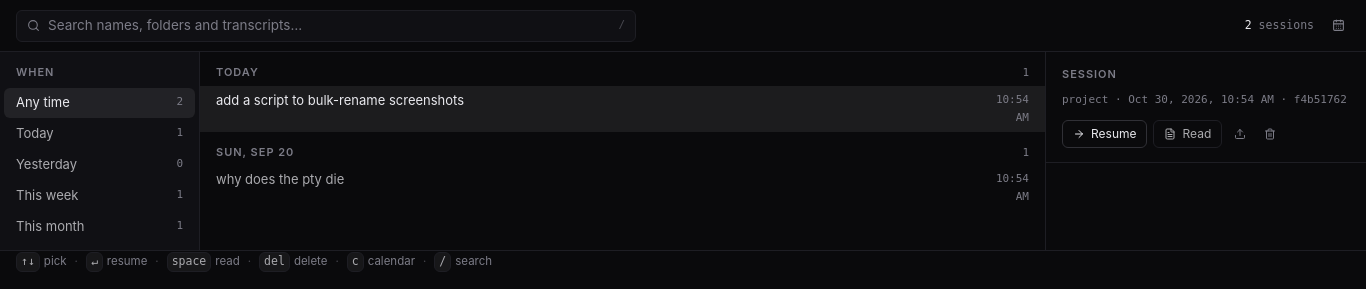
Scenario: SessionHistoryPanel › filters › narrows to a time range, and counts what each range holds
The image size is (1366, 289).
Expected: the text "why does the pty die" is shown, x1=216 y1=171 x2=344 y2=187
Click the button "Today 1" at (100, 134), box x1=4 y1=118 x2=195 y2=148
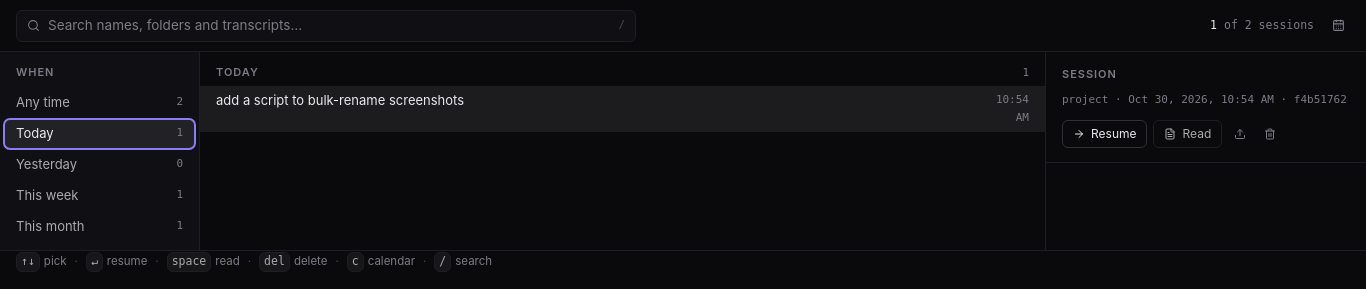
Expected: the text "add a script to bulk-rename screenshots" is shown, x1=216 y1=92 x2=464 y2=108
Expected: the option "why does the pty die" is gone
